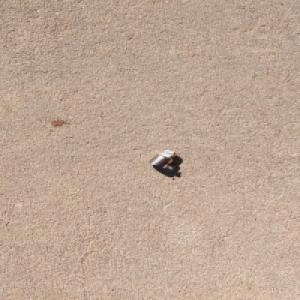MetalPart: (147, 148, 179, 171)
